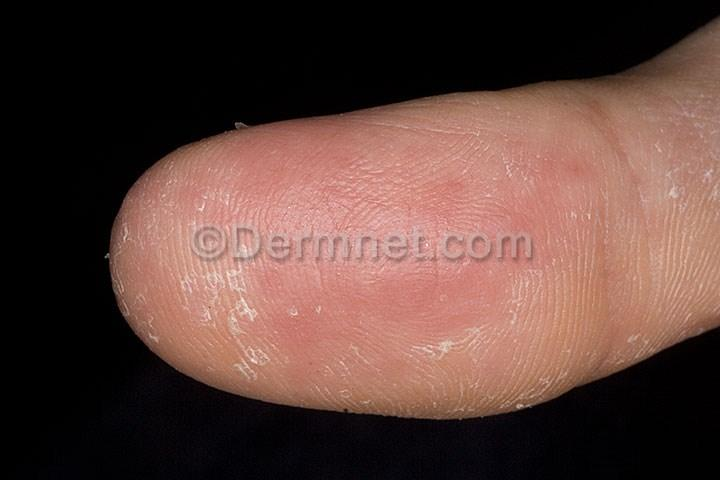Eczema: (105, 168, 232, 358), (369, 315, 531, 423), (647, 108, 720, 212)
